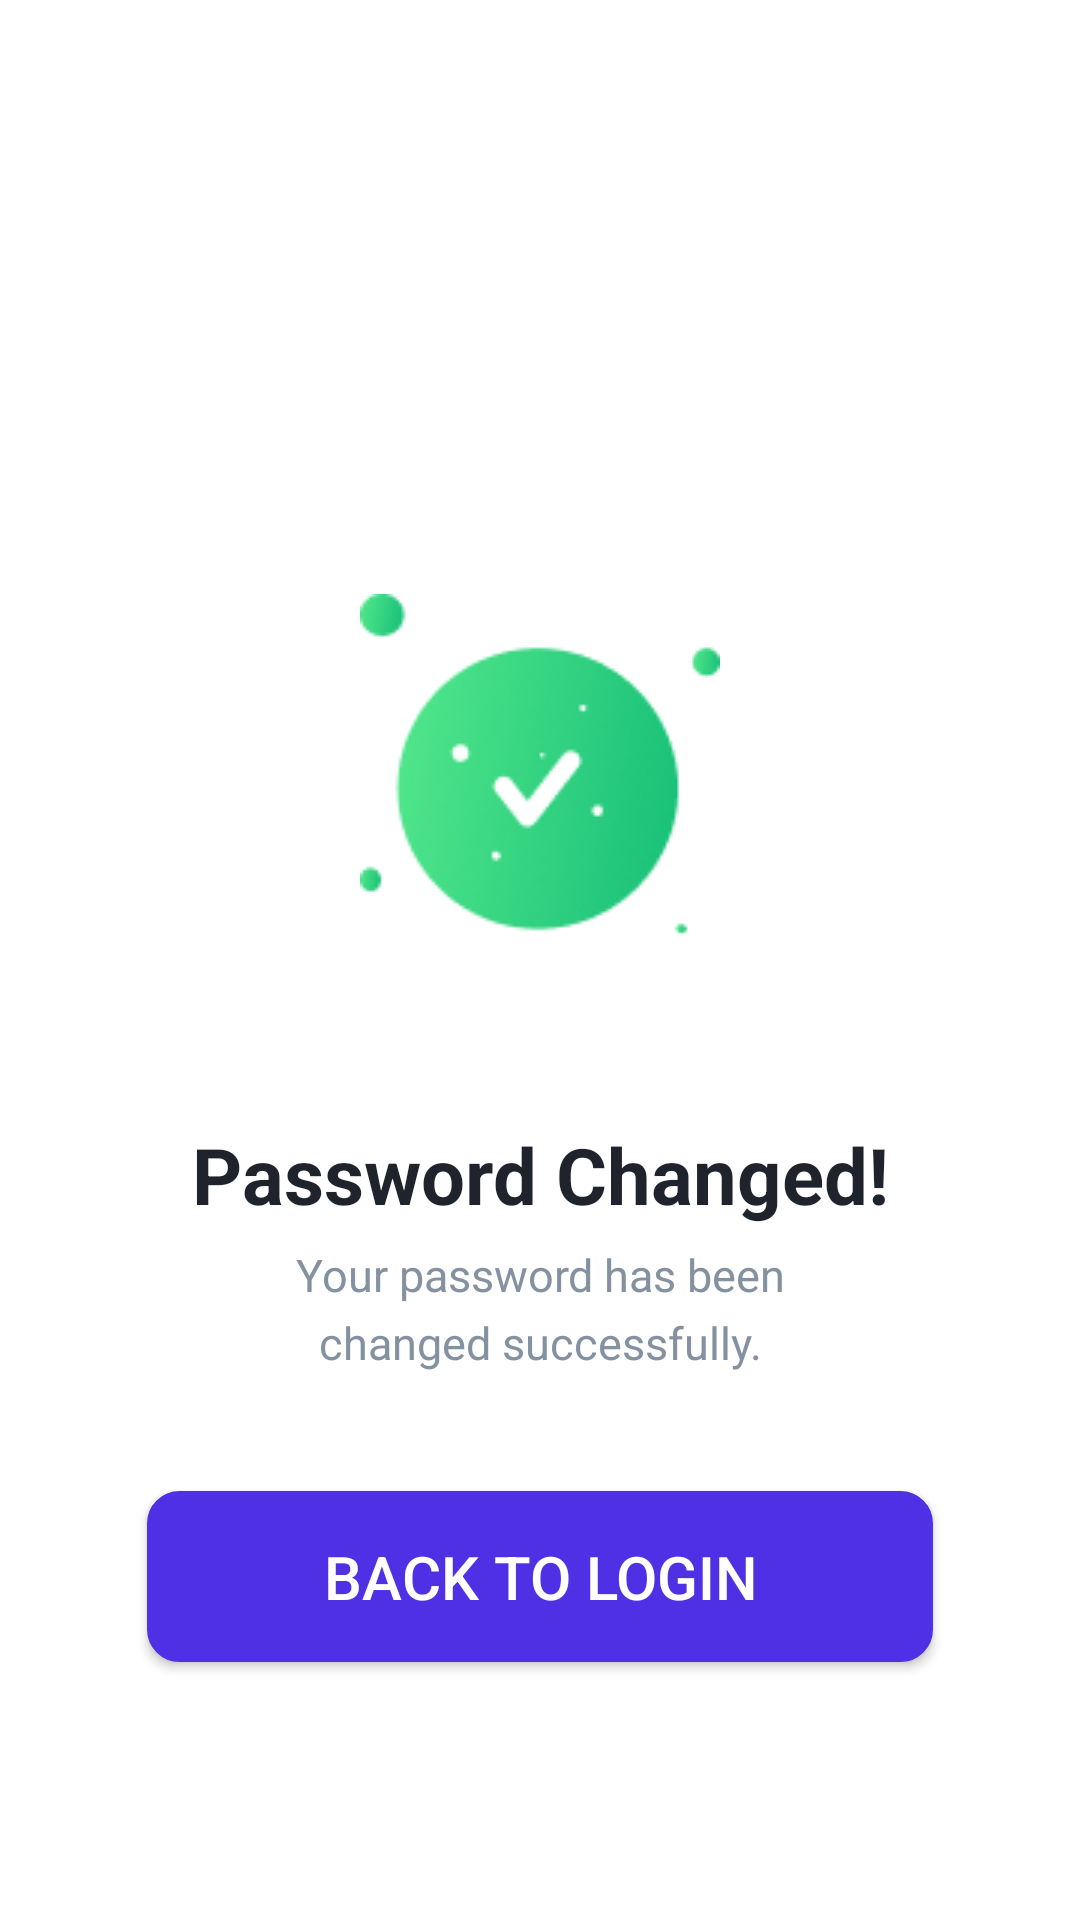

Screen size 1080×1920. Icon name, then its center in pixels as [x,y]:
success: [540,764]
